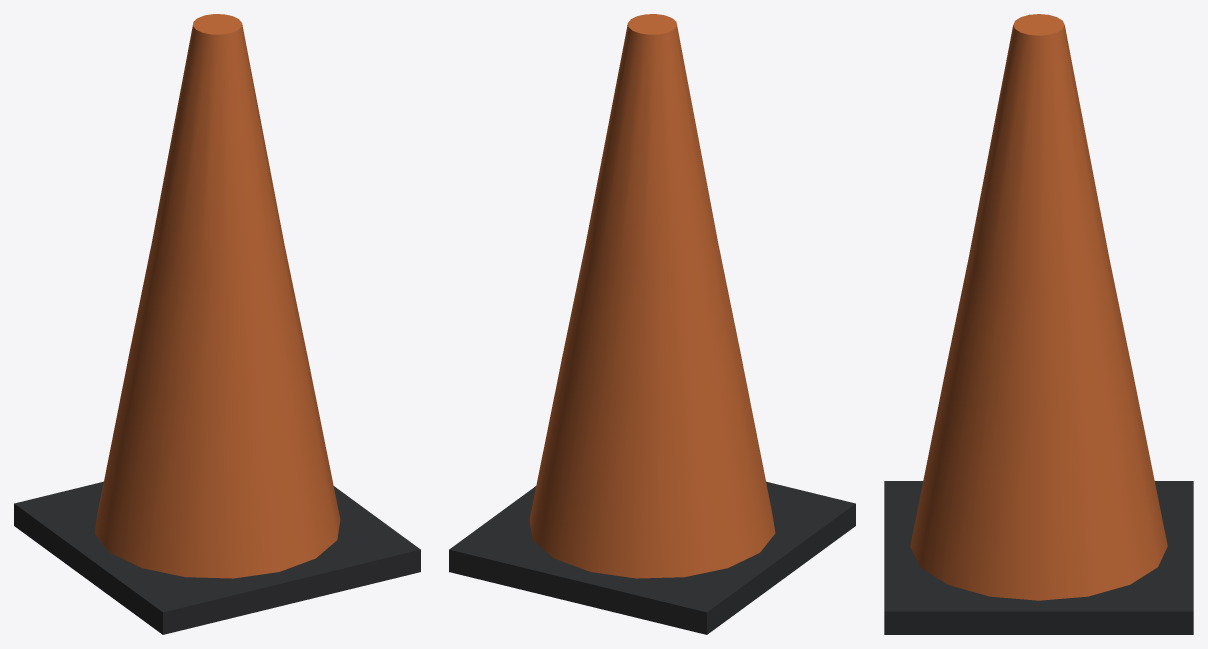
Rendered from prop_traffic_cone.glb.
The picture shows the model from 3 angles, left to right: view 1: azimuth 30°, elevation 25°; view 2: azimuth 150°, elevation 25°; view 3: azimuth 270°, elevation 25°; orthographic projection. The views are drawn at different scales.
Parts seen in each view (by area): view 1: Cone; view 2: Cone; view 3: Cone.
Part boxes in pixels (box(x1,y1,x2,y2)): Cone: box(14, 14, 420, 634); Cone: box(449, 14, 855, 634); Cone: box(884, 14, 1193, 634).
Size of what is drawn, in the model's own units: 0.36 by 0.7 by 0.36.
